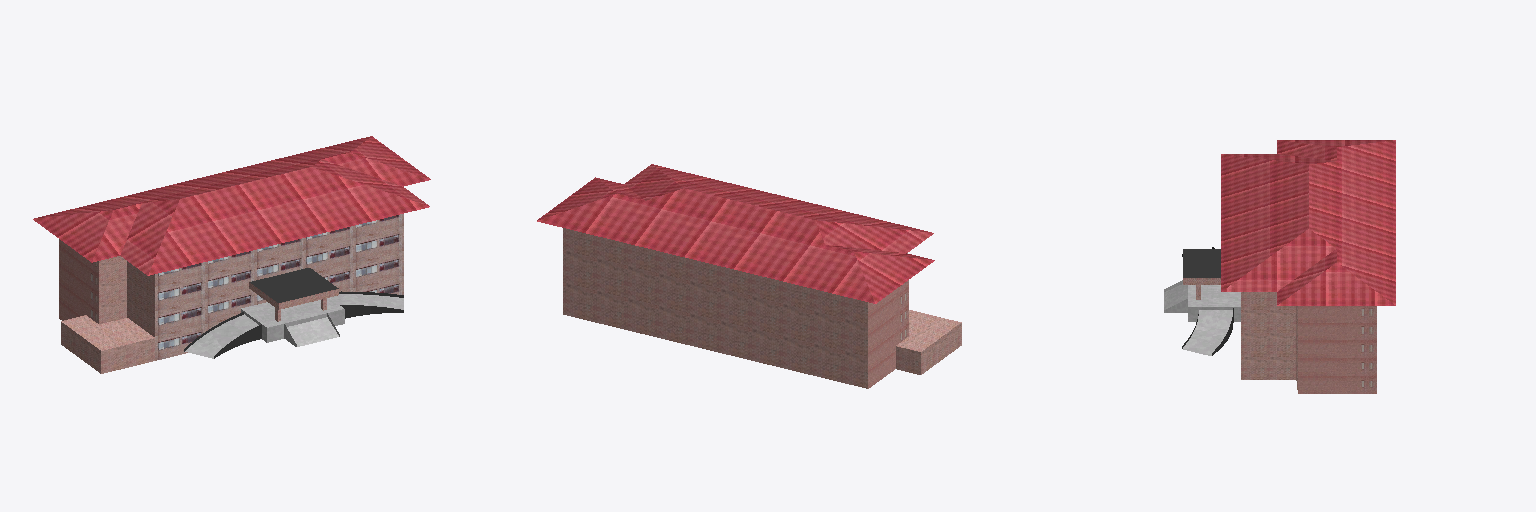
The picture shows the model from 3 angles: view 1: azimuth 30°, elevation 25°; view 2: azimuth 150°, elevation 25°; view 3: azimuth 270°, elevation 25°; orthographic projection.
Visible parts, largest first — view 1: VMtl1506, VMtl1498, VMtl1504, VMtl1500, VMtl1496, VMtl1502, VMtl1499, VMtl1495, VMtl1503; view 2: VMtl1506, VMtl1500, VMtl1499, VMtl1495, VMtl1496; view 3: VMtl1506, VMtl1499, VMtl1500, VMtl1504, VMtl1502.
Part boxes in pixels (x1,y1,x2,y2): VMtl1506: (33, 136, 430, 275); VMtl1498: (155, 214, 403, 360); VMtl1504: (185, 294, 403, 358); VMtl1500: (99, 256, 154, 336); VMtl1496: (61, 315, 154, 373); VMtl1502: (184, 268, 403, 358); VMtl1499: (59, 239, 98, 323); VMtl1495: (61, 322, 100, 373); VMtl1503: (249, 282, 338, 321); VMtl1506: (537, 164, 934, 303); VMtl1500: (563, 228, 907, 388); VMtl1499: (868, 280, 908, 388); VMtl1495: (896, 323, 961, 374); VMtl1496: (896, 310, 961, 351); VMtl1506: (1221, 140, 1395, 305); VMtl1499: (1298, 306, 1376, 393); VMtl1500: (1241, 292, 1297, 389); VMtl1504: (1164, 280, 1240, 355); VMtl1502: (1182, 247, 1233, 355).
Bounding box in the file's own units: 67.5 × 22.75 × 39.09.
Materials: 9 (5 with a texture image).